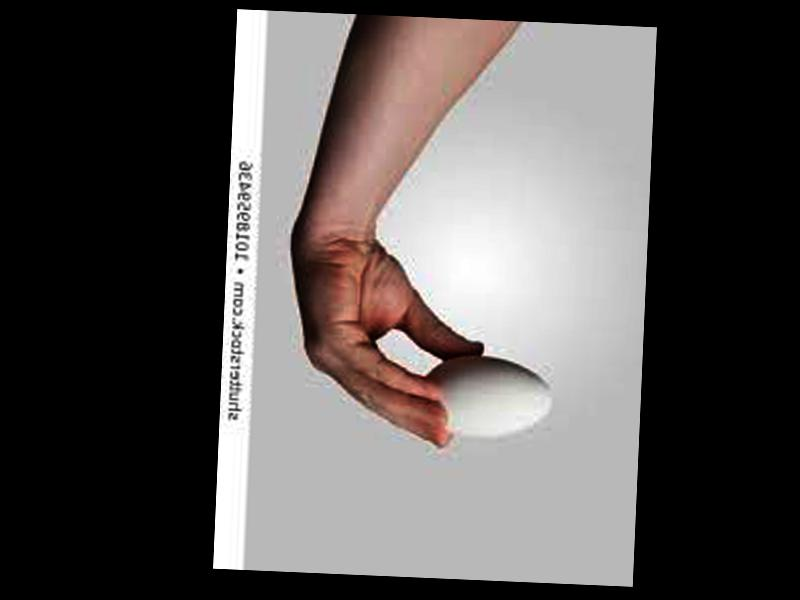Eggs: (421, 353, 555, 443)
